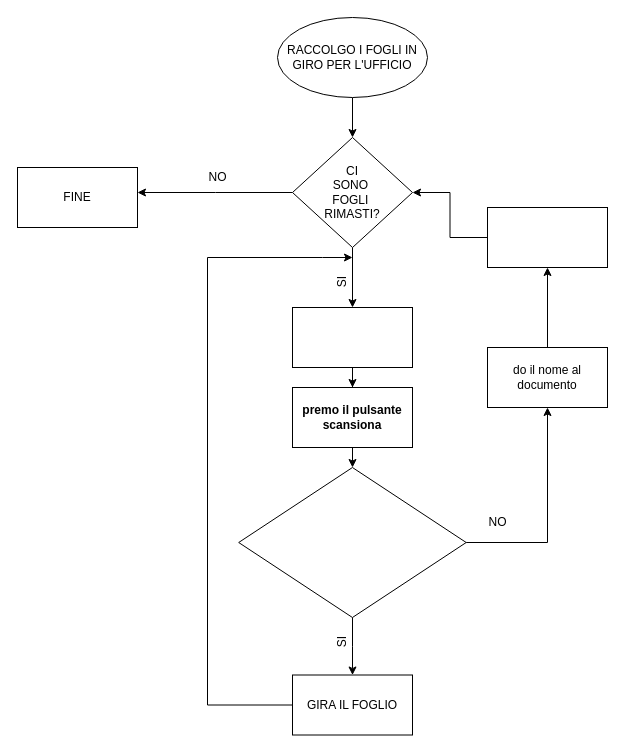
This 625x753 diagram has some shape labels left out. The shapes that lost their labels are listed below. From the top down, each one's centre as x and y in pixels, then its label:
At [547,237]: "CAMBIO FOGLIO".
At [352,337]: "inserisco il foglio sul fronte nella stampante".
At [352,542]: "IL FOGLIO HA UN RETRO? E NON E' STATO SCANSIONATO?".
